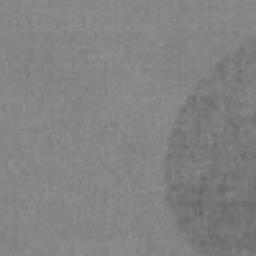Oil spot: (160, 36, 256, 256)
